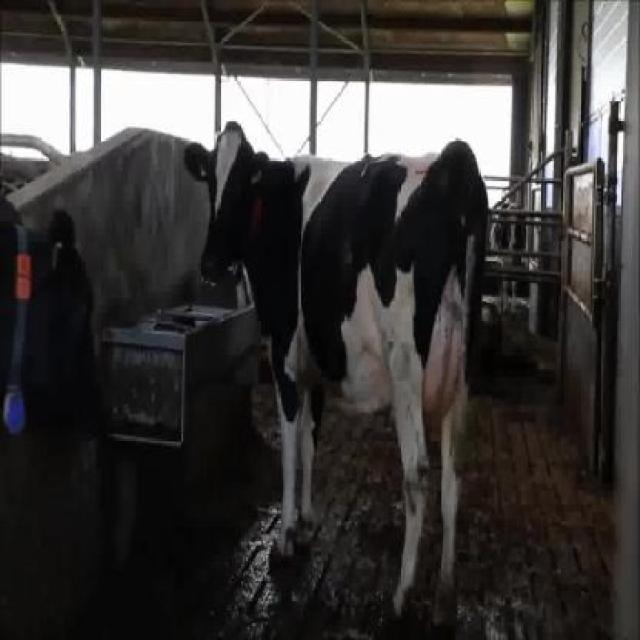Cow: (182, 116, 489, 638), (0, 197, 102, 441)
